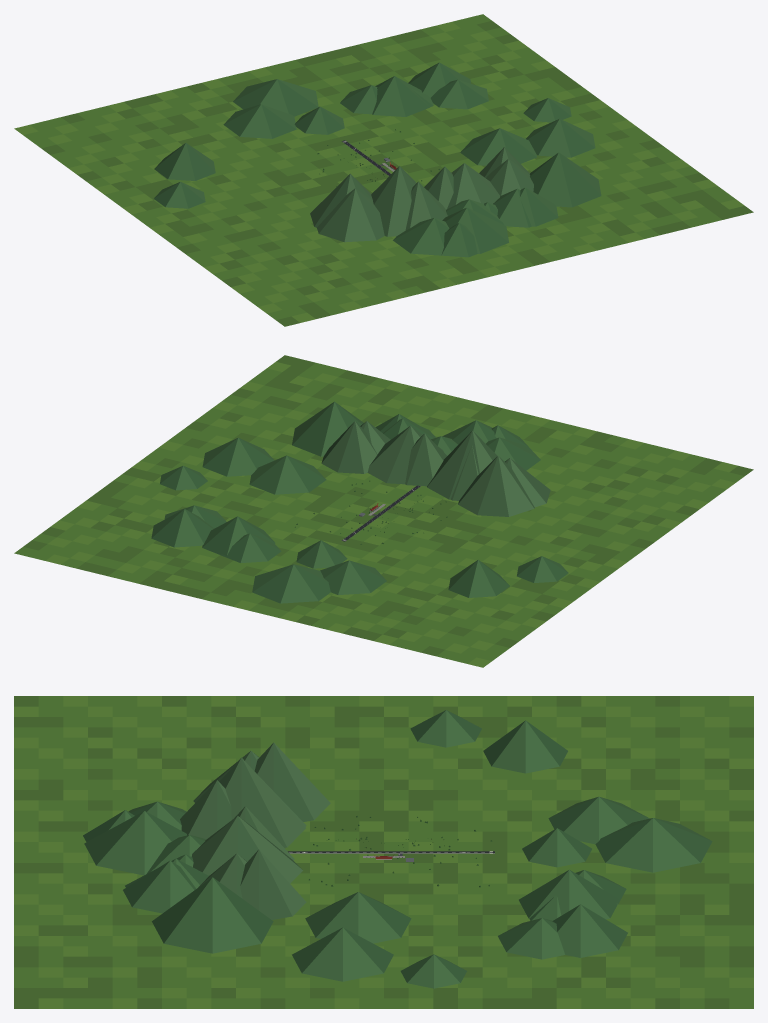
The model's file is bandara.glb.
3 renders of one model, top to bottom at view 1: azimuth 30°, elevation 25°; view 2: azimuth 150°, elevation 25°; view 3: azimuth 270°, elevation 25°, orthographic. The views are drawn at different scales.
Visible parts, largest first — view 1: Bandara; view 2: Bandara; view 3: Bandara.
Part boxes in pixels (box(x1,y1,x2,y2)): Bandara: box(14, 14, 753, 326); Bandara: box(14, 355, 753, 667); Bandara: box(14, 696, 753, 1008).
Size of the model in its own units: 6000 by 639 by 6000.
